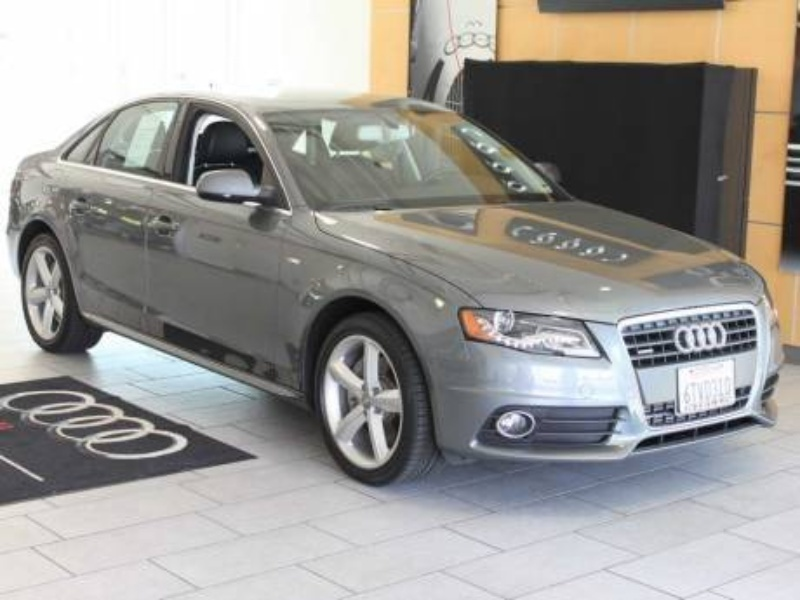normalcar: (2, 68, 785, 468)
